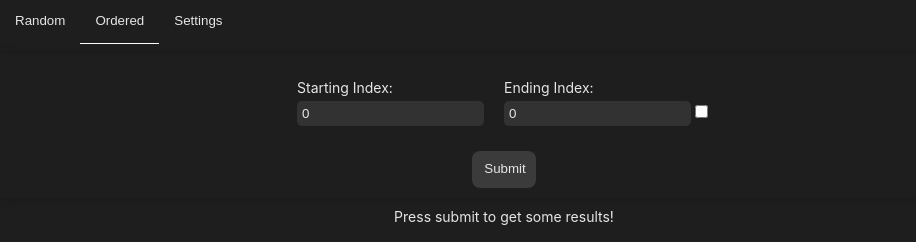
OrderedWowSearchComponent › As a user, I should get not quotes when the API endpoint cannot be found
The image size is (916, 242).
Click the button with id "submit-button".
click(504, 170)  # box [472,151,536,188]
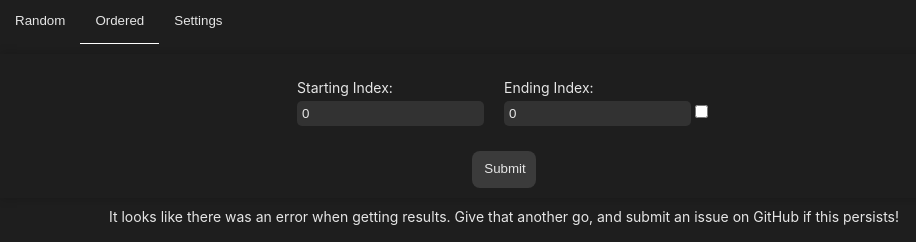
Expected: the 3rd label shows "It looks like there was an error when getting results. Give that another go, and submit an issue on GitHub if this persists!", [109,208,899,225]
